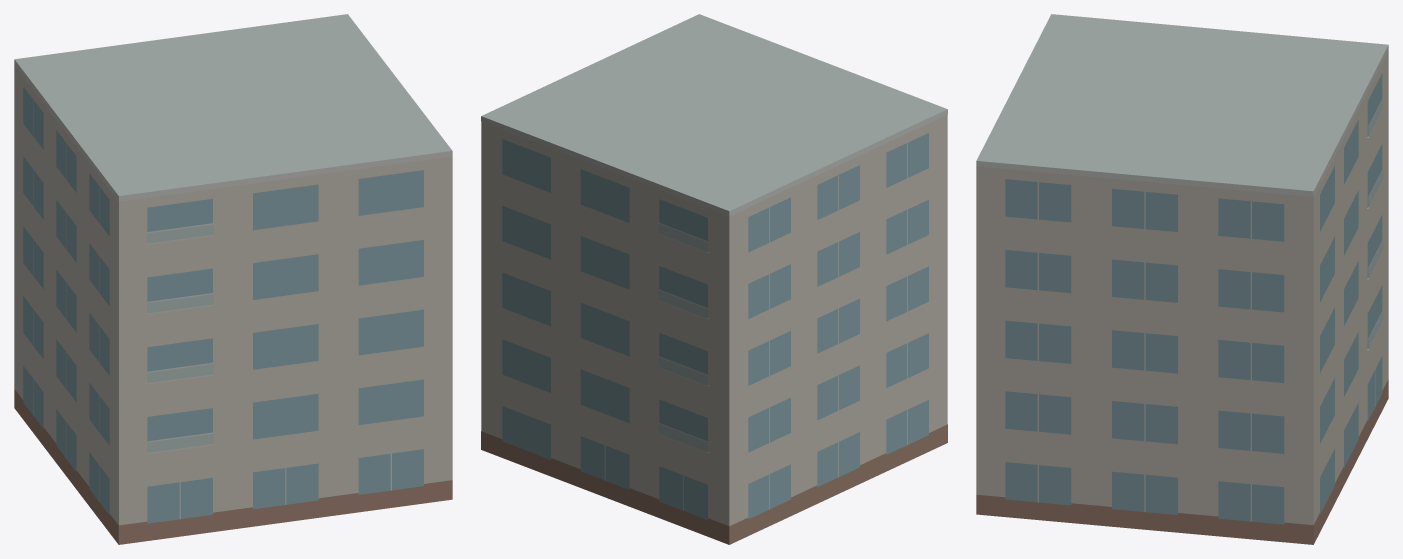
The model's file is survey-upis-32864863.glb.
The picture shows the model from 3 angles, left to right: view 1: azimuth 30°, elevation 25°; view 2: azimuth 150°, elevation 25°; view 3: azimuth 270°, elevation 25°; orthographic projection. The views are drawn at different scales.
Visible parts, largest first — view 1: survey-upis-32864863.tmp; view 2: survey-upis-32864863.tmp; view 3: survey-upis-32864863.tmp.
Boxes of the visible parts, x1,y1,x2,y2 form: survey-upis-32864863.tmp: (14, 14, 452, 544); survey-upis-32864863.tmp: (481, 14, 947, 544); survey-upis-32864863.tmp: (976, 14, 1388, 544).
Size of the model in its own units: 16.41 by 15.25 by 16.12.
